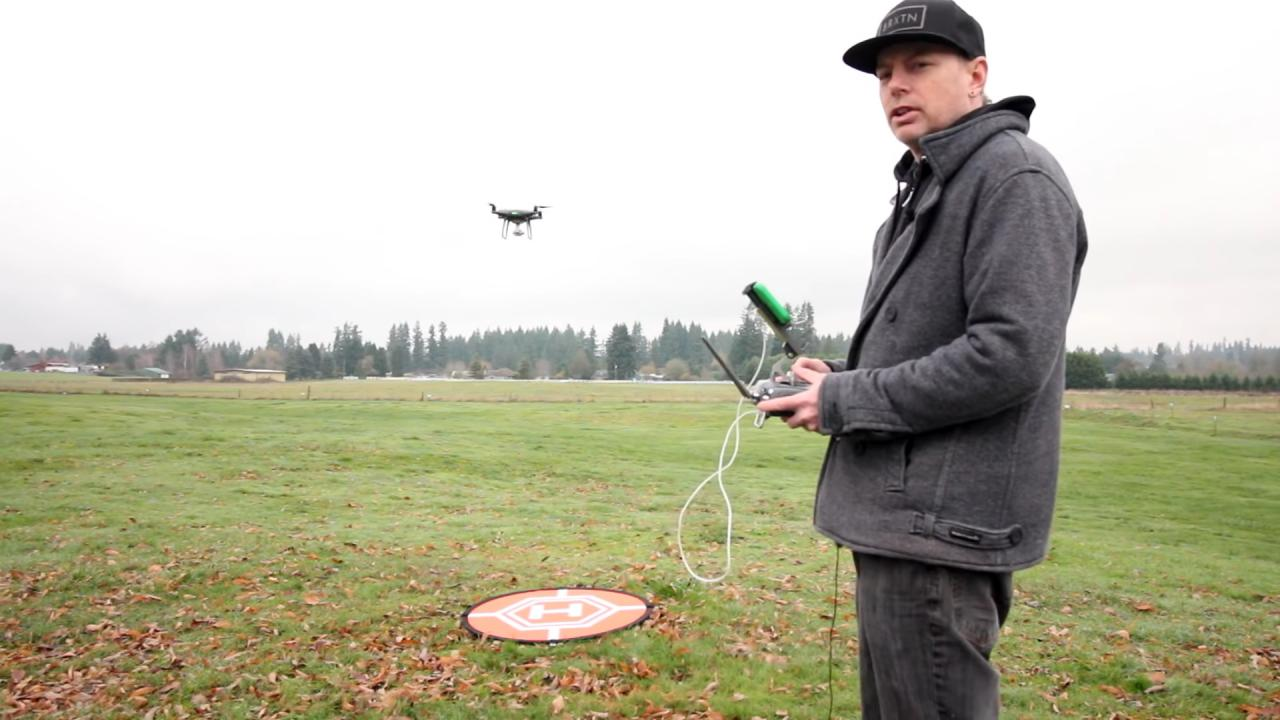Drone: (476, 195, 562, 248)
